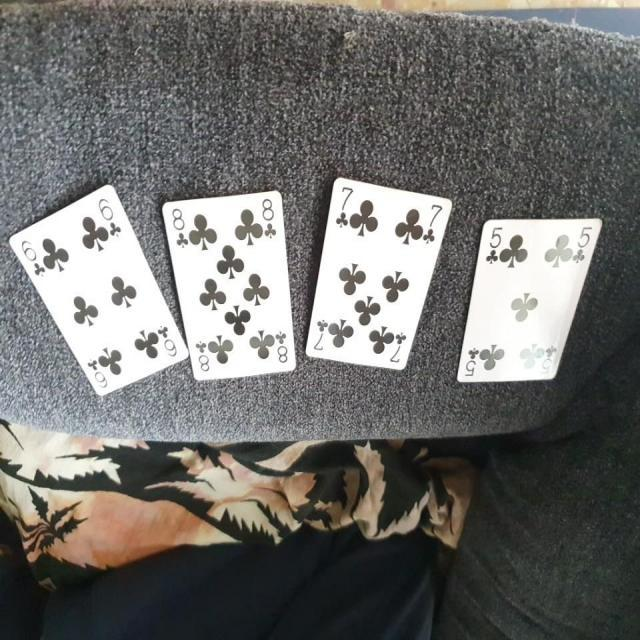5 of clubs: (454, 214, 604, 385)
6 of clubs: (8, 180, 188, 401)
7 of clubs: (301, 174, 452, 371)
8 of clubs: (160, 185, 298, 388)
